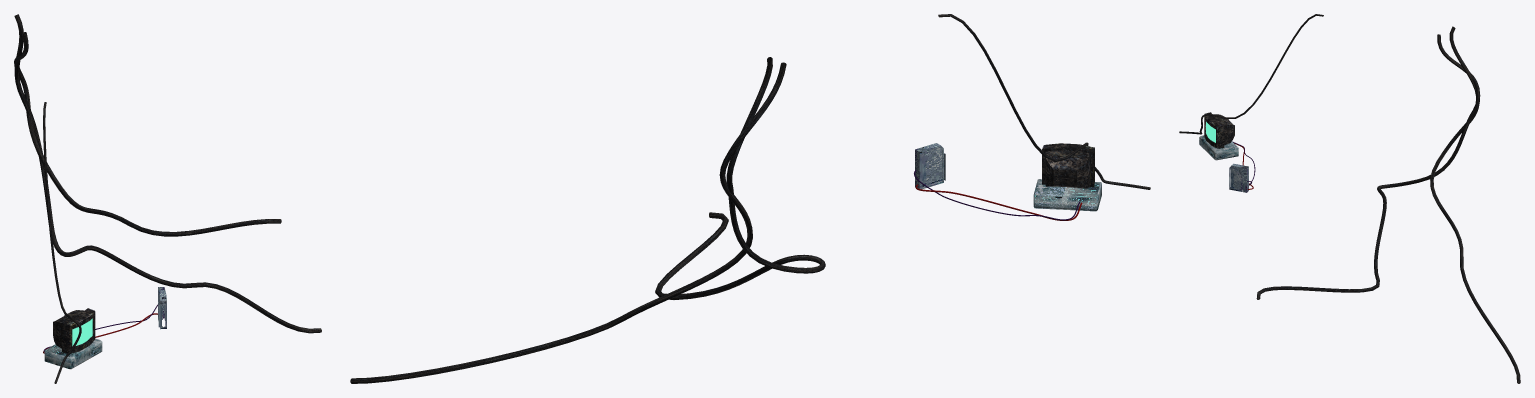
The picture shows the model from 3 angles, left to right: view 1: azimuth 30°, elevation 25°; view 2: azimuth 150°, elevation 25°; view 3: azimuth 270°, elevation 25°; orthographic projection. The views are drawn at different scales.
Parts seen in each view (by area): view 1: BezierCurve.005, BezierCurve.004, Cube.013, Cube.012, BezierCurve.006, Cube.006, Cube.015; view 2: BezierCurve.004, BezierCurve.005, Cube.013, Cube.012, Cube.015, BezierCurve.006; view 3: BezierCurve.005, BezierCurve.004, Cube.013, Cube.015, Cube.012, BezierCurve.006.
Boxes of the visible parts, x1,y1,x2,y2 form: BezierCurve.005: (14, 14, 321, 333); BezierCurve.004: (14, 32, 281, 236); Cube.013: (53, 308, 95, 353); Cube.012: (44, 338, 102, 369); BezierCurve.006: (43, 102, 81, 383); Cube.006: (72, 318, 92, 346); Cube.015: (158, 287, 166, 329); BezierCurve.004: (350, 62, 786, 383); BezierCurve.005: (655, 57, 825, 299); Cube.013: (1042, 143, 1094, 188); Cube.012: (1033, 179, 1101, 211); Cube.015: (915, 143, 943, 189); BezierCurve.006: (938, 14, 1150, 189); BezierCurve.005: (1256, 26, 1476, 299); BezierCurve.004: (1430, 34, 1520, 383); Cube.013: (1204, 112, 1234, 148); Cube.015: (1229, 163, 1248, 192); Cube.012: (1199, 135, 1238, 160); BezierCurve.006: (1179, 14, 1323, 134).
Size of the model in its own units: 5.12 by 3.46 by 4.4.
7 materials, 4 textured.
